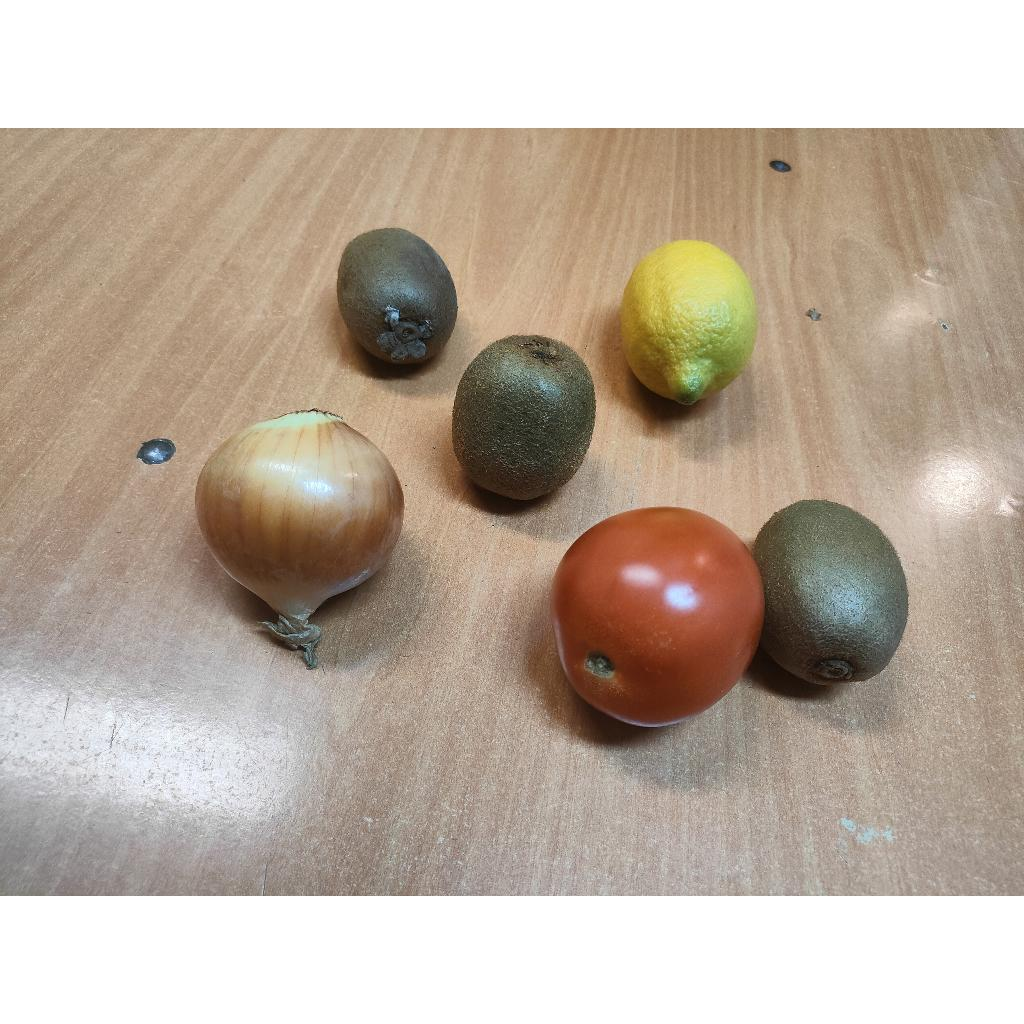kiwi: (754, 500, 908, 684), (452, 336, 596, 500), (336, 228, 458, 364)
lemon: (622, 240, 758, 404)
tomato: (550, 508, 764, 726)
